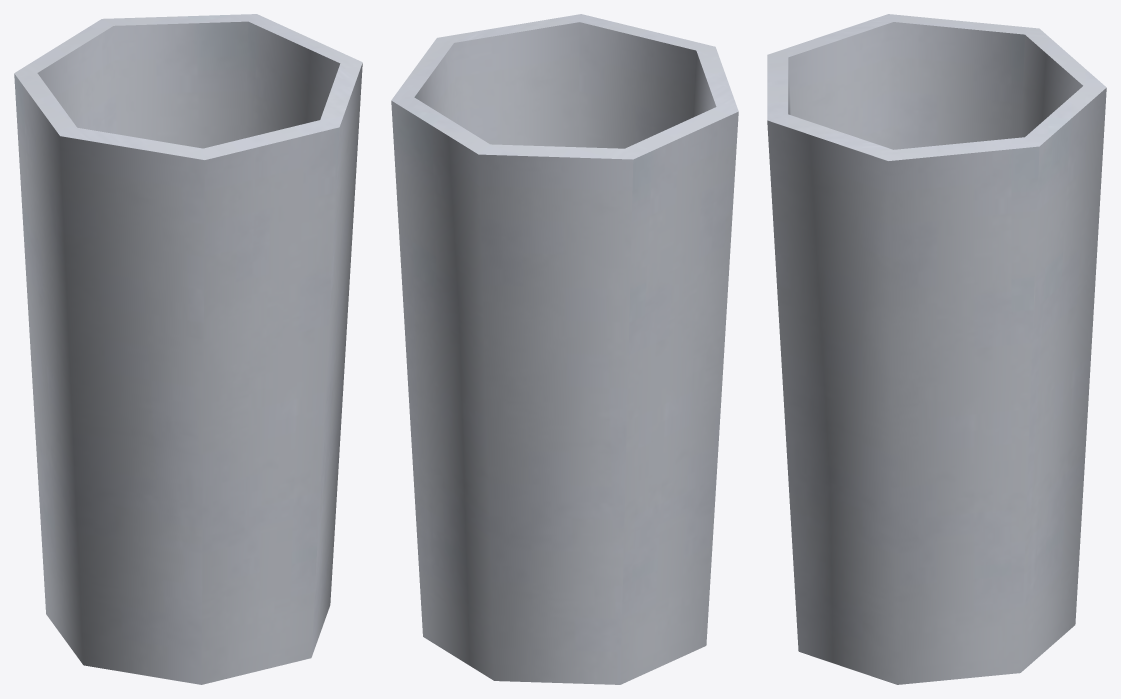
File: Vaso.glb
3 renders of one model, left to right at view 1: azimuth 30°, elevation 25°; view 2: azimuth 150°, elevation 25°; view 3: azimuth 270°, elevation 25°, orthographic.
Visible parts, largest first — view 1: Vaso; view 2: Vaso; view 3: Vaso.
Boxes of the visible parts, left/top/right/bottom form: Vaso: left=14, top=14, right=362, bottom=684; Vaso: left=391, top=14, right=738, bottom=684; Vaso: left=767, top=14, right=1106, bottom=684.
Bounding box in the file's own units: 0.1648 × 0.2814 × 0.1606.
Materials: 1 (1 with a texture image).
